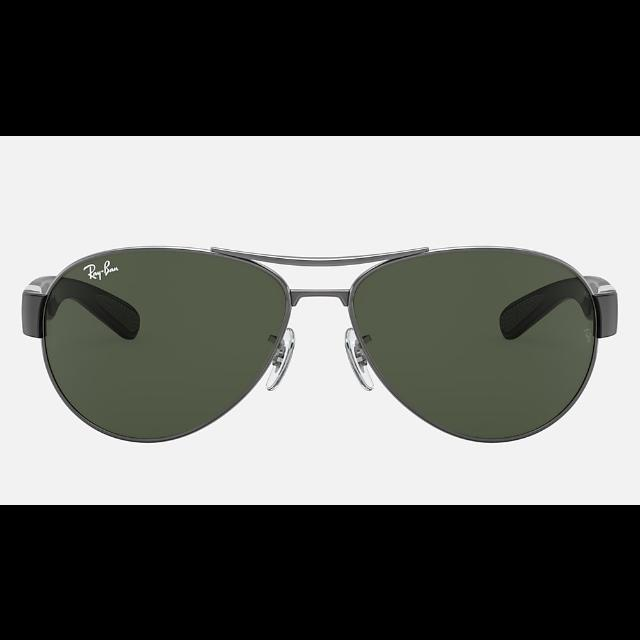Sunglasses: (26, 246, 620, 444)
